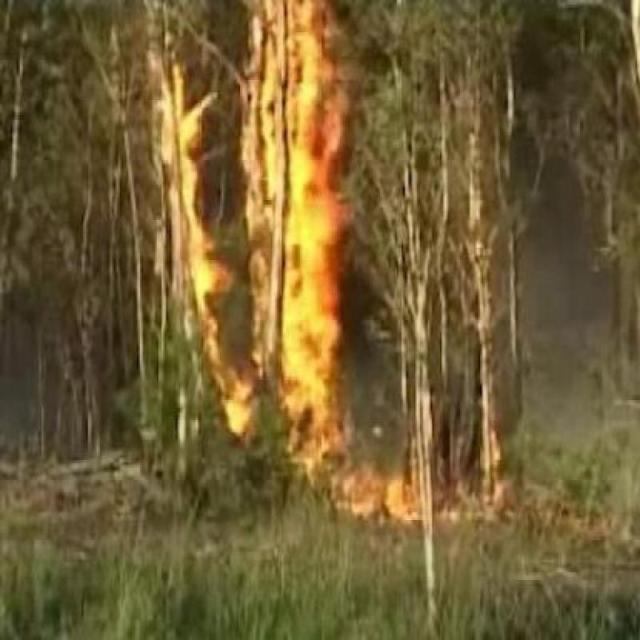Fire: (157, 30, 331, 472), (345, 426, 483, 529)
